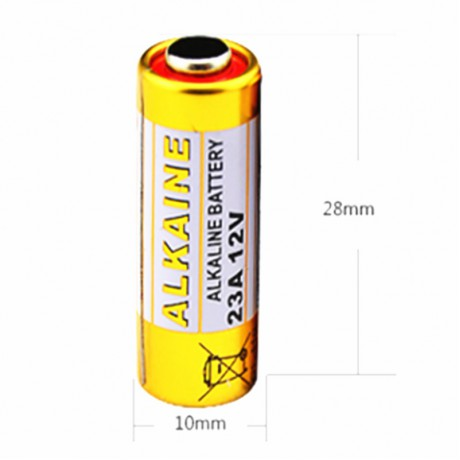Battery: (129, 31, 269, 415)
